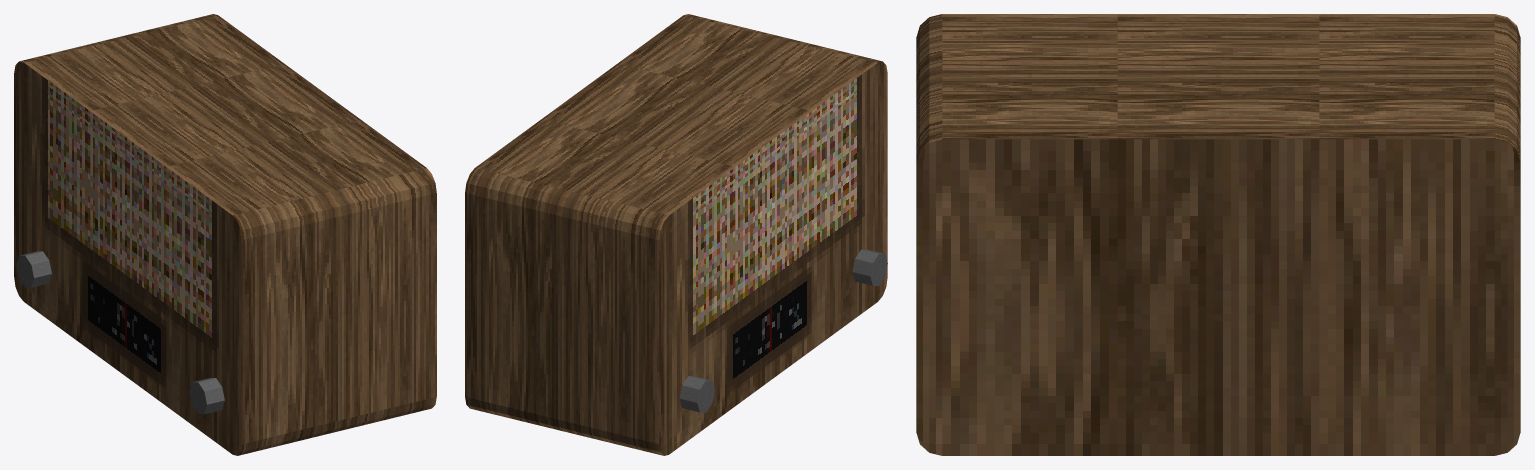
File: radio.glb
3 renders of one model, left to right at view 1: azimuth 30°, elevation 25°; view 2: azimuth 150°, elevation 25°; view 3: azimuth 270°, elevation 25°, orthographic. The views are drawn at different scales.
Parts seen in each view (by area): view 1: Cube; view 2: Cube; view 3: Cube.
Part boxes in pixels (bbox=[...]): Cube: bbox=[14, 14, 436, 455]; Cube: bbox=[465, 14, 887, 455]; Cube: bbox=[916, 14, 1520, 455].
Size of the model in its own units: 0.3359 by 0.3619 by 0.626.
Materials: 1 (1 with a texture image).
